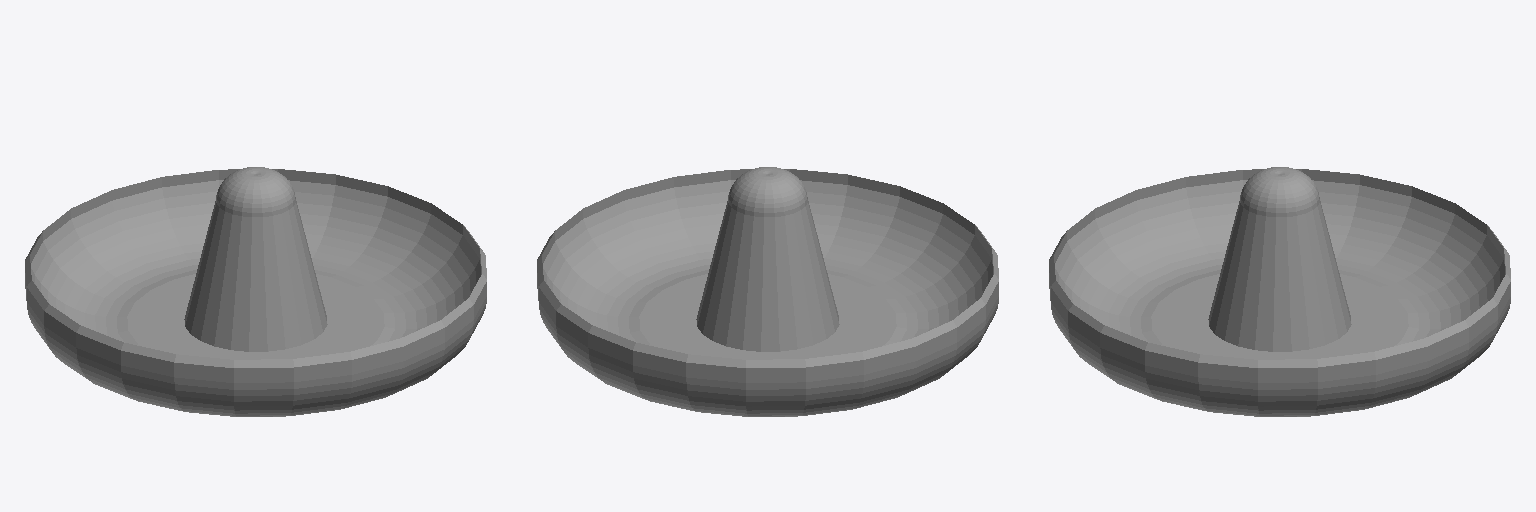
Rendered from sombrero.obj.
The picture shows the model from 3 angles: view 1: azimuth 30°, elevation 25°; view 2: azimuth 150°, elevation 25°; view 3: azimuth 270°, elevation 25°; orthographic projection.
Visible parts, largest first — view 1: Layer0_004; view 2: Layer0_004; view 3: Layer0_004.
Part boxes in pixels (x1,y1,x2,y2): Layer0_004: (25,167,486,416); Layer0_004: (537,167,998,416); Layer0_004: (1049,167,1510,416).
Size of the model in its own units: 0.3263 by 0.1286 by 0.3263.